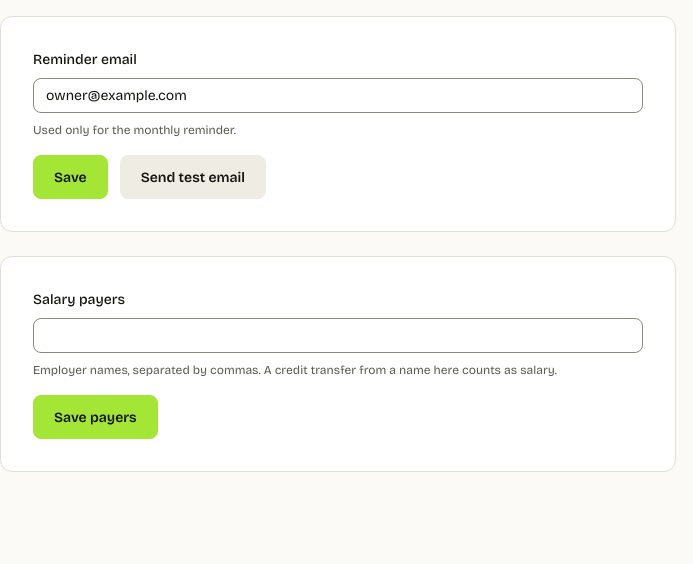
Test: SettingsForm › sends a test email and shows a success message
The width and height of the screenshot is (693, 564).
Click the button "Send test email": [193, 177] box top-left (120, 155), bottom-right (266, 199)
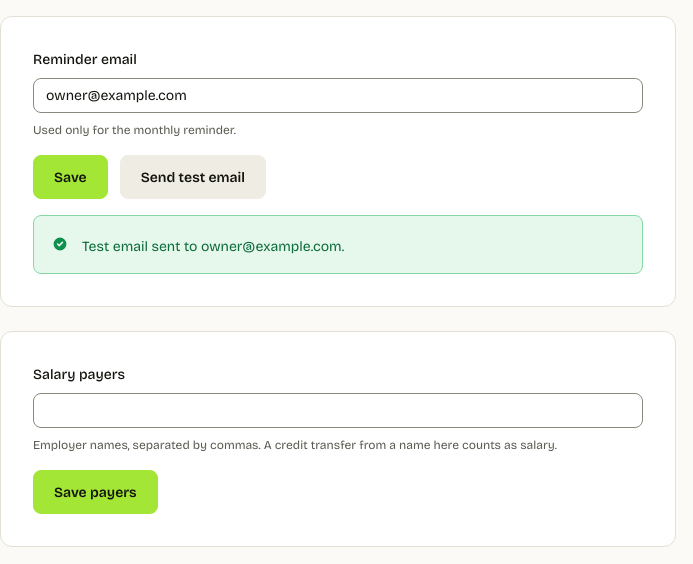
Check: the text "Test email sent to owner@example.com." is shown, box top-left (82, 238), bottom-right (344, 255)
